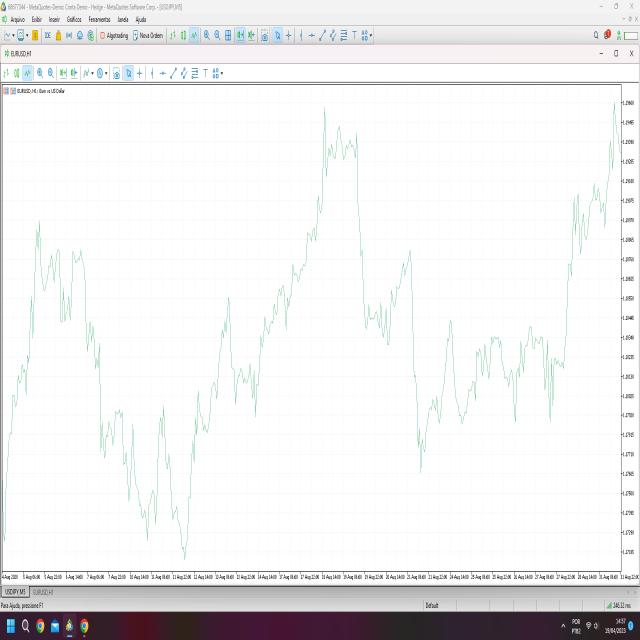bandeira_alta: (564, 176, 610, 384)
bandeira_baixa: (353, 123, 400, 354), (92, 324, 127, 466)
fundo_duplo: (128, 324, 210, 572), (226, 284, 267, 424)
